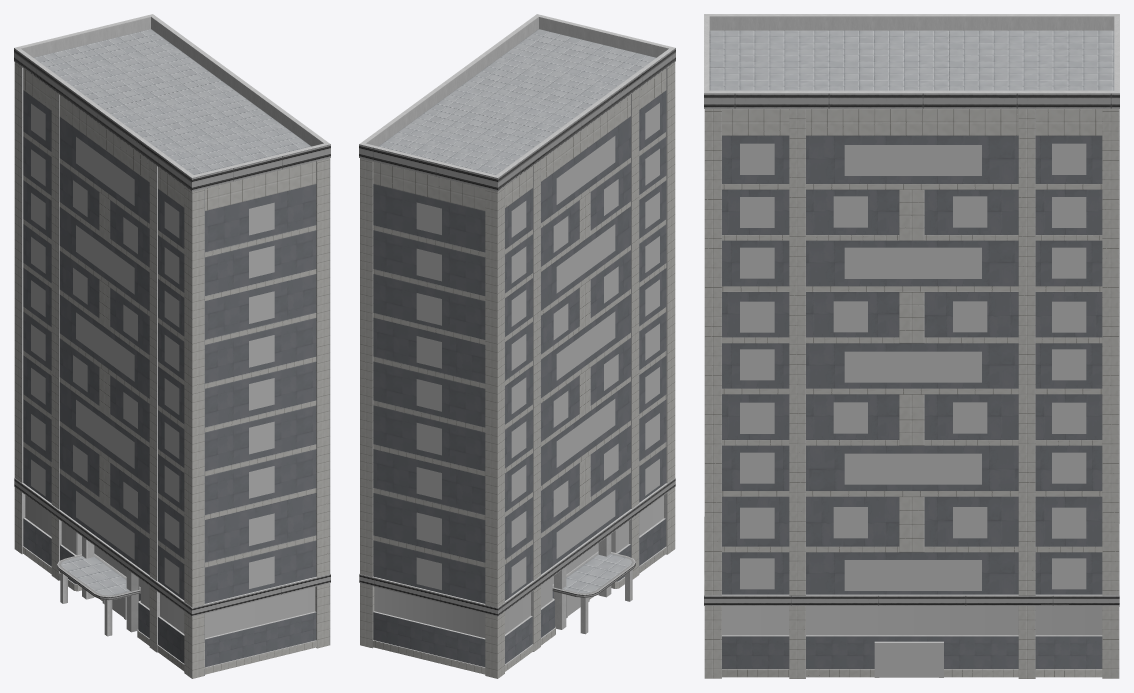
File: House_GB.fbx
3 views of the same model, side by side, from view 1: azimuth 30°, elevation 25°; view 2: azimuth 150°, elevation 25°; view 3: azimuth 270°, elevation 25° (orthographic). The views are drawn at different scales.
Parts seen in each view (by area): view 1: House_GB; view 2: House_GB; view 3: House_GB.
Part boxes in pixels (box(x1,y1,x2,y2)): House_GB: box(14, 14, 330, 678); House_GB: box(359, 14, 675, 678); House_GB: box(704, 14, 1119, 678).
Size of what is drawn, in the model's own units: 19.62 by 56.28 by 36.22.
